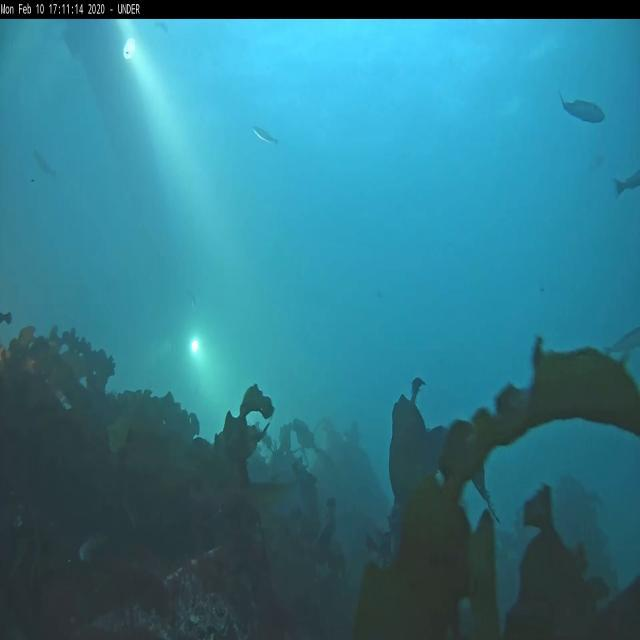fish: (560, 94, 606, 122), (613, 170, 639, 198), (253, 126, 280, 147)
